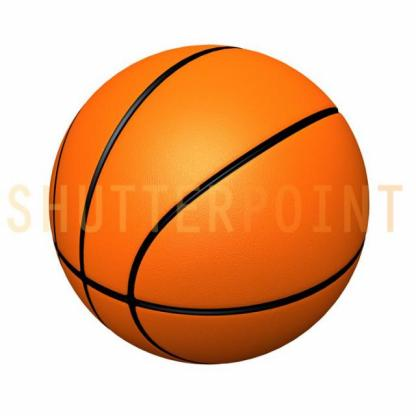basketball: (45, 44, 370, 364)
